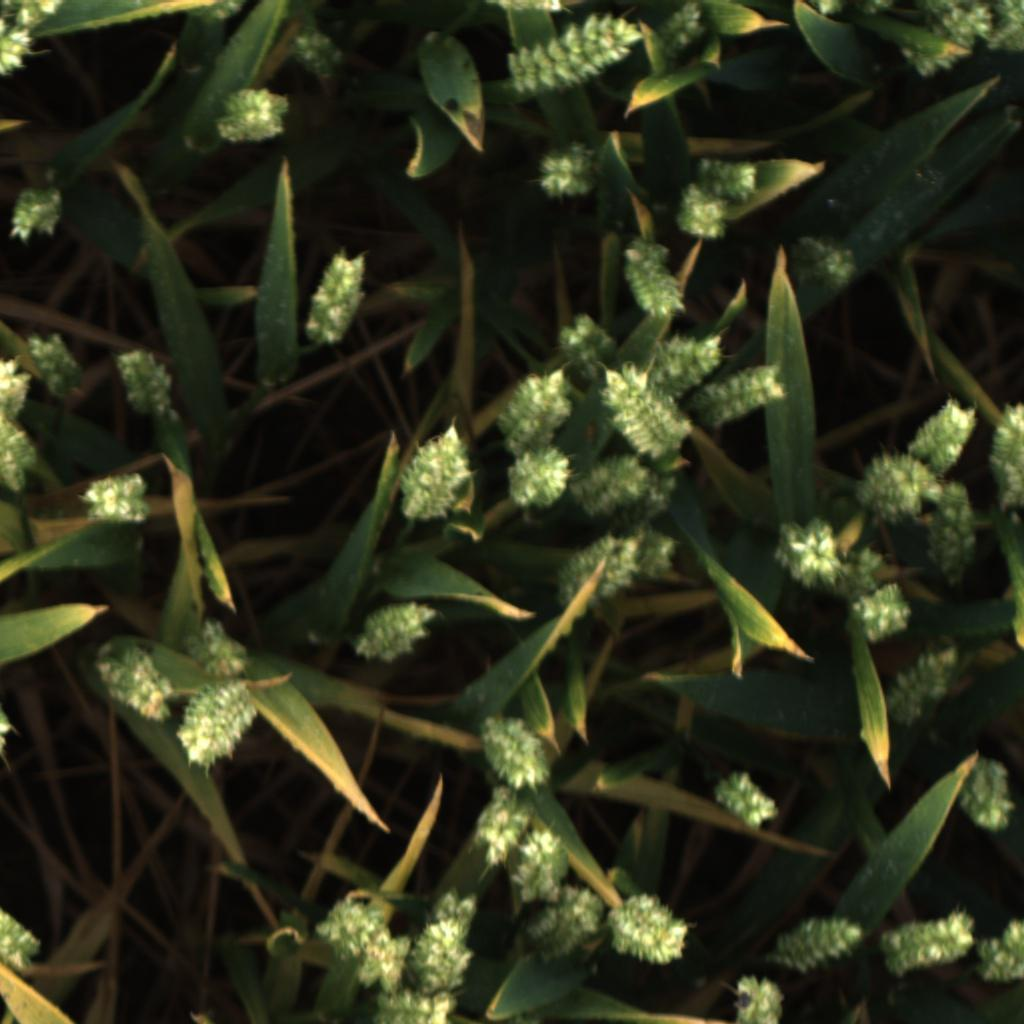0-0: (503, 12, 649, 101), (599, 362, 694, 466), (172, 678, 263, 779), (298, 248, 377, 360), (393, 421, 475, 521), (521, 882, 611, 971), (344, 595, 440, 673), (606, 884, 695, 968), (96, 643, 179, 733), (492, 365, 575, 455), (884, 900, 979, 978), (417, 888, 484, 995), (881, 642, 963, 729), (558, 528, 644, 610), (459, 782, 539, 870), (923, 481, 984, 596), (697, 358, 794, 428), (479, 714, 558, 795), (911, 391, 989, 471), (701, 764, 786, 837), (954, 751, 1018, 847), (214, 79, 294, 152), (857, 451, 937, 524), (622, 242, 694, 322), (782, 909, 871, 973), (838, 577, 919, 645), (577, 451, 661, 516), (769, 516, 840, 591), (181, 615, 256, 686), (555, 311, 626, 384), (652, 328, 728, 396), (311, 891, 384, 961), (497, 451, 575, 515), (107, 345, 172, 421), (78, 467, 151, 534), (349, 925, 414, 998), (790, 230, 860, 297), (901, 26, 977, 86), (25, 328, 89, 399), (510, 825, 571, 897), (977, 900, 1024, 991), (828, 539, 889, 609), (989, 391, 1024, 511), (0, 411, 46, 502), (0, 188, 68, 249), (533, 146, 600, 206), (692, 148, 762, 205), (727, 969, 797, 1024), (922, 0, 994, 53), (0, 900, 46, 981), (666, 190, 733, 245), (282, 26, 346, 83), (373, 989, 467, 1024), (628, 528, 686, 584), (659, 3, 711, 60), (0, 351, 41, 421), (180, 0, 255, 31), (0, 0, 68, 34), (0, 22, 37, 84), (481, 0, 576, 24), (986, 0, 1024, 54), (804, 0, 851, 20), (856, 0, 898, 17)
